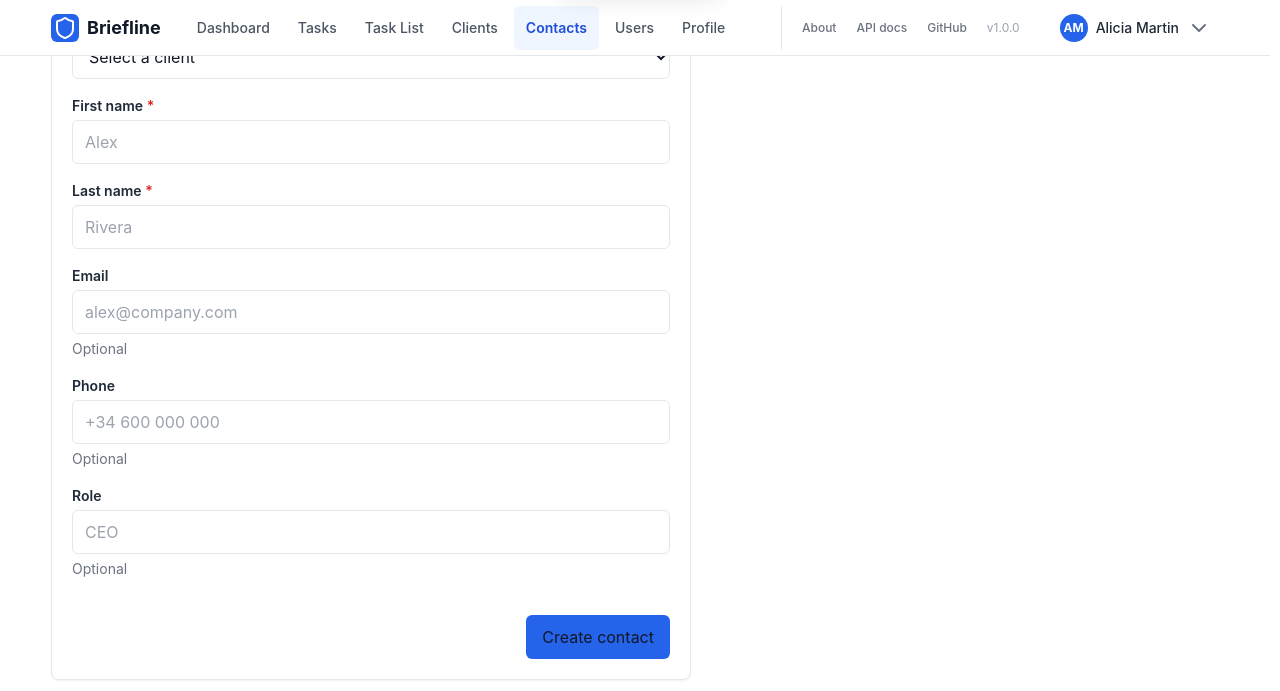
Test case: Contact create › blocks submission when required fields are missing (inline errors)
(page scrolled)
Click the button "Create contact" at (598, 637), box [526, 615, 670, 659]
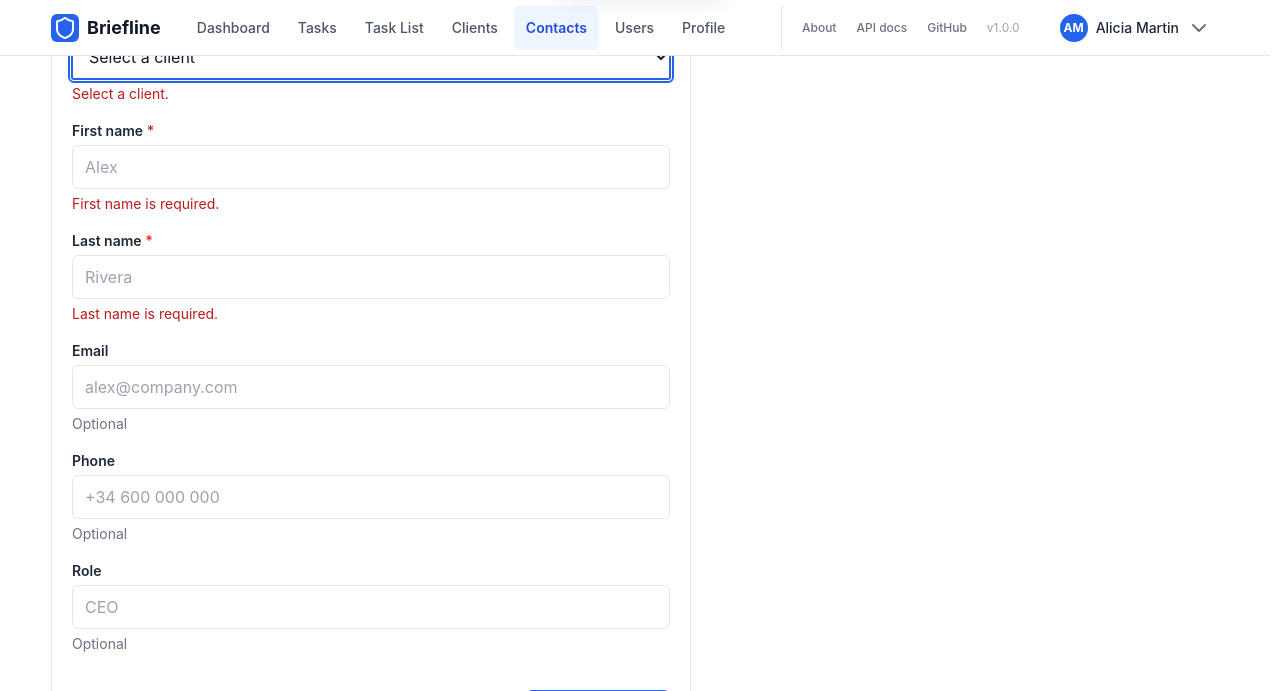
Now the text "Select a client." is shown, box [72, 85, 169, 102]
Now the text "First name is required." is shown, box [72, 195, 219, 212]
Now the text "Last name is required." is shown, box [72, 305, 218, 322]
